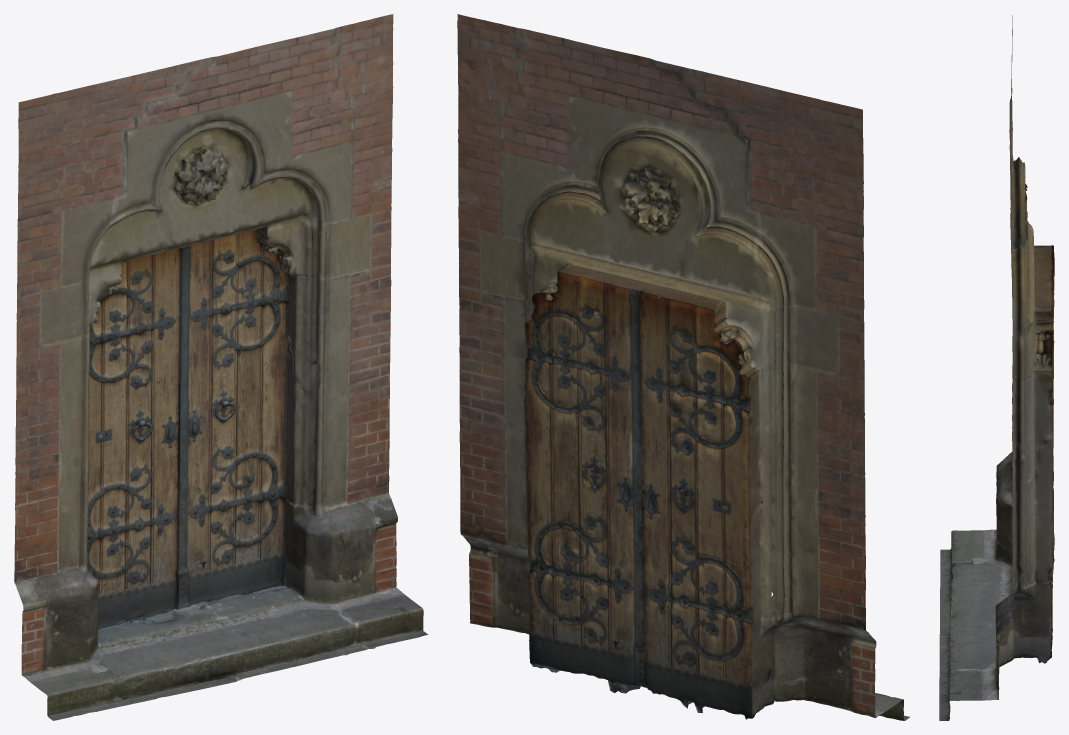
The model's file is landing_portal.glb.
3 views of the same model, side by side, from view 1: azimuth 30°, elevation 25°; view 2: azimuth 150°, elevation 25°; view 3: azimuth 270°, elevation 25° (orthographic). The views are drawn at different scales.
Visible parts, largest first — view 1: landing_portal; view 2: landing_portal; view 3: landing_portal.
Boxes of the visible parts, box(x1,y1,x2,y2) form: landing_portal: box(14, 14, 428, 720); landing_portal: box(457, 14, 909, 720); landing_portal: box(939, 15, 1054, 720).
Size of the model in its own units: 2.18 by 3.27 by 0.6314.
Materials: 1 (1 with a texture image).
